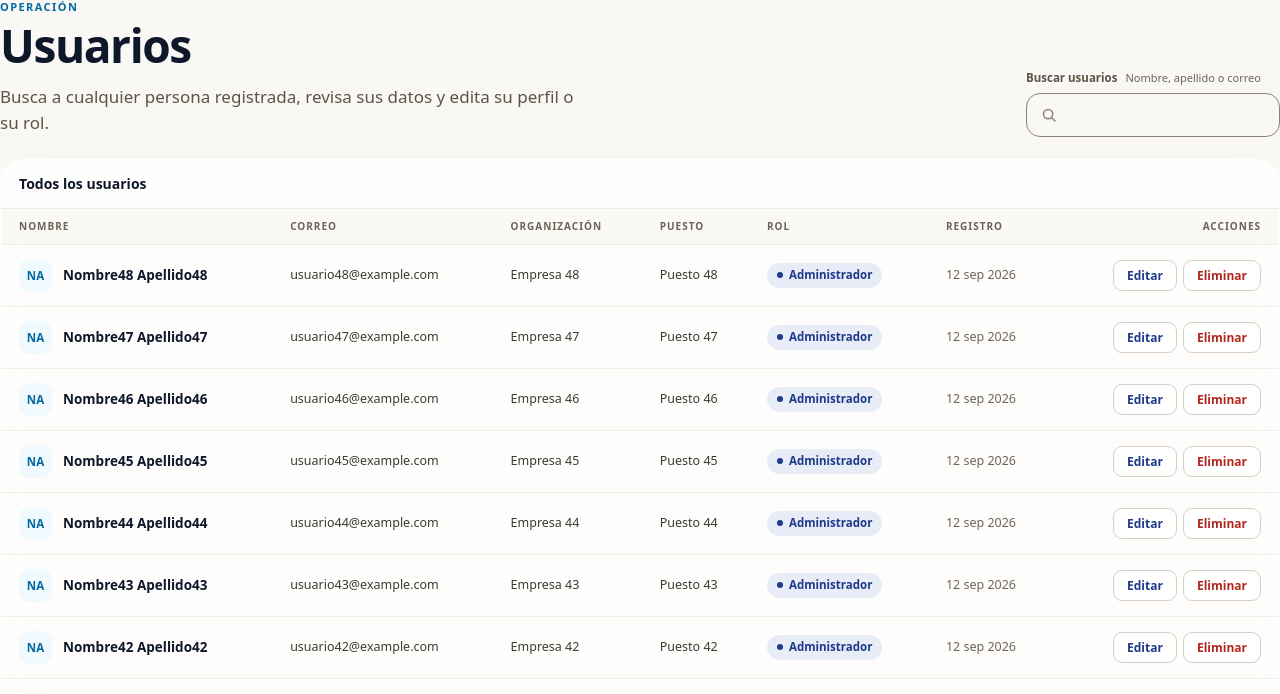
Test: AdminUsuariosPage (/admin/usuarios) › eliminar › pide confirmación en un Modal; Cancelar no elimina
This screenshot has width=1280, height=694.
What coordinates should you click on to do the following:
click the button named "Eliminar a Nombre48 Apellido48"
I would click on:
 (1222, 275)
Its box is left=1183, top=260, right=1261, bottom=291.
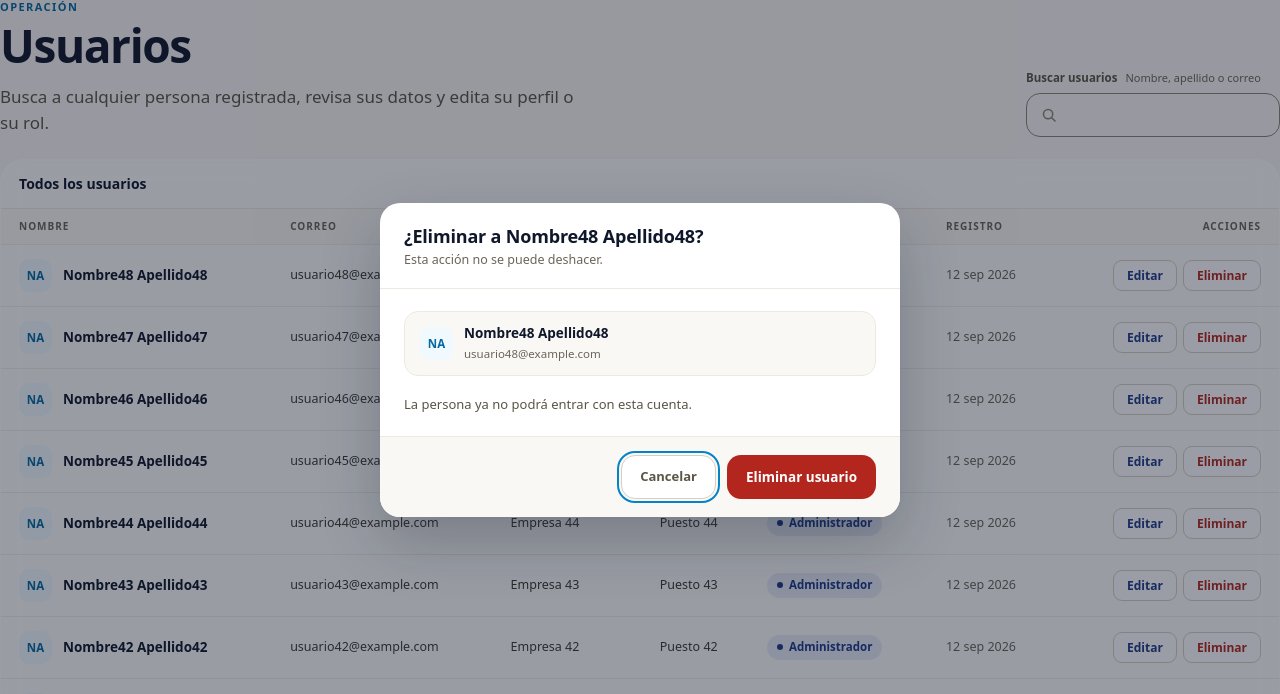
Check: the text "usuario48@example.com" is shown, box left=464, top=346, right=601, bottom=361
What coordinates should you click on to do the following:
click the button "Cancelar"
I would click on:
 (669, 477)
Its box is left=621, top=455, right=716, bottom=499.
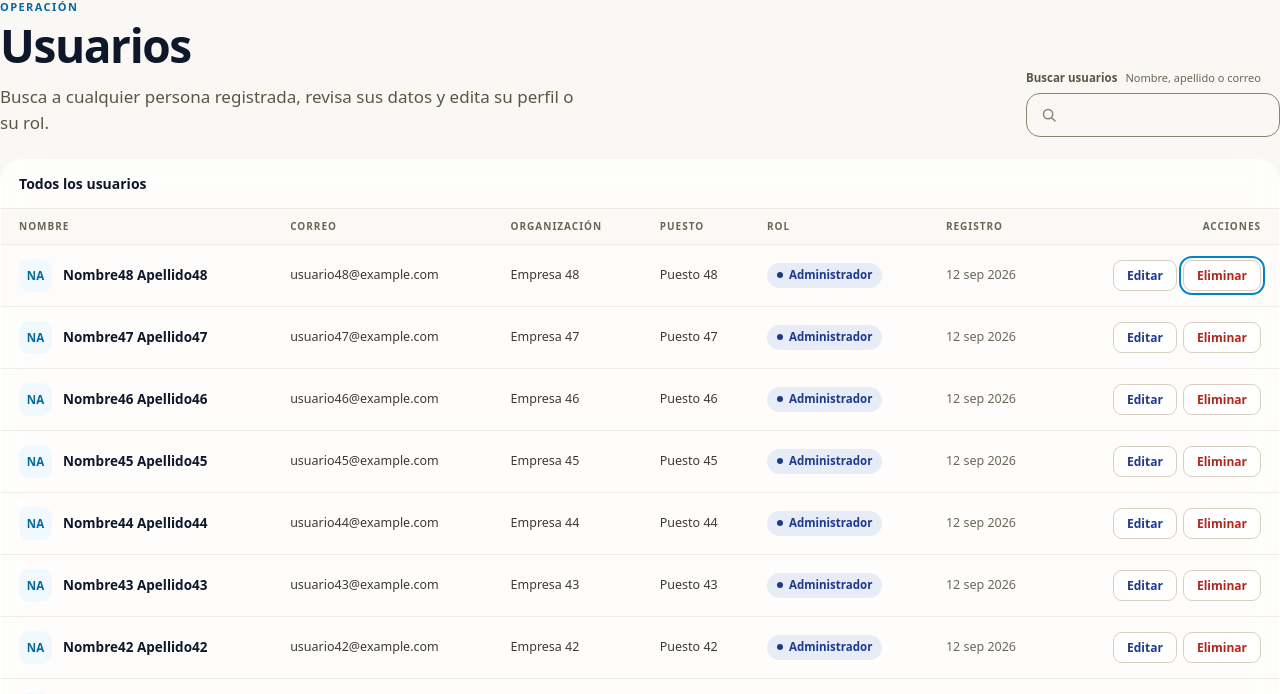
Check: the dialog is gone
